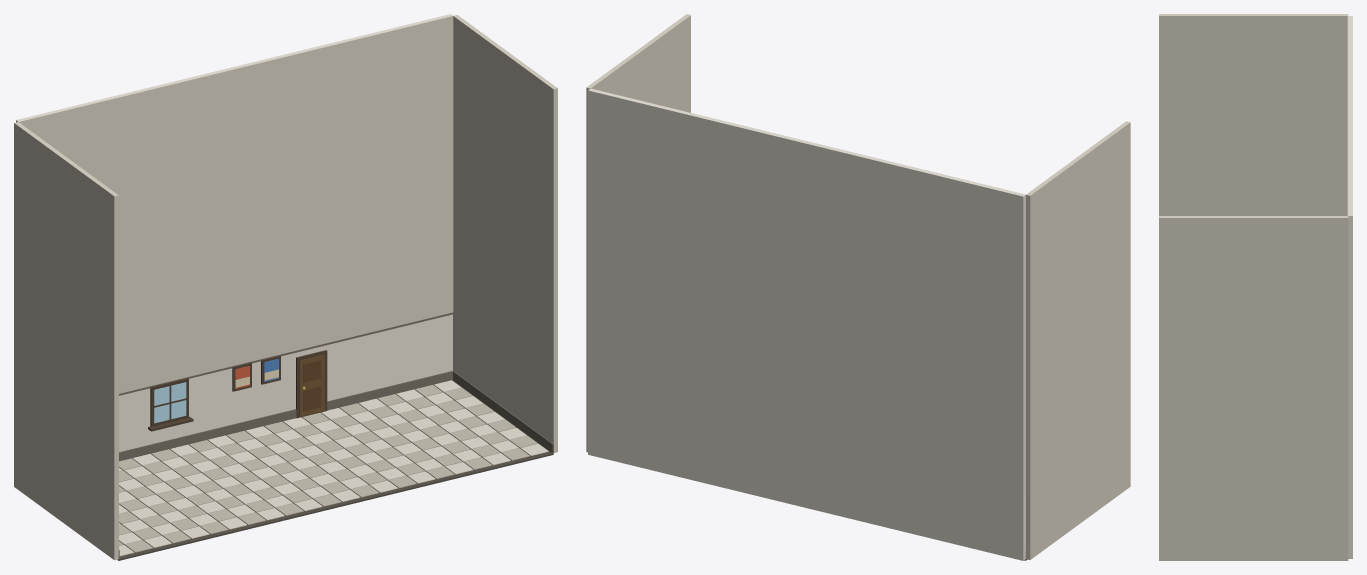
Rendered from room_classico_stone.glb.
The picture shows the model from 3 angles, left to right: view 1: azimuth 30°, elevation 25°; view 2: azimuth 150°, elevation 25°; view 3: azimuth 270°, elevation 25°; orthographic projection. The views are drawn at different scales.
Parts seen in each view (by area): view 1: room; view 2: room; view 3: room.
Boxes of the visible parts, x1,y1,x2,y2 form: room: [14, 14, 557, 560]; room: [586, 14, 1130, 560]; room: [1159, 14, 1352, 560].
Bounding box in the file's own units: 30.6 × 24.11 × 12.3.
